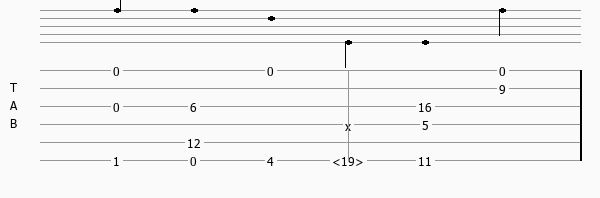0: (113, 64, 124, 77), (113, 100, 124, 113), (190, 154, 201, 167), (267, 64, 278, 77), (499, 64, 510, 77)
1: (113, 154, 124, 167)
11: (418, 154, 436, 167)
12: (187, 136, 205, 149)
16: (418, 100, 436, 113)
4: (267, 154, 278, 167)
5: (422, 118, 433, 131)
6: (190, 100, 201, 113)
9: (499, 82, 510, 95)
harmonic: (332, 154, 368, 167)
x: (345, 119, 355, 130)
